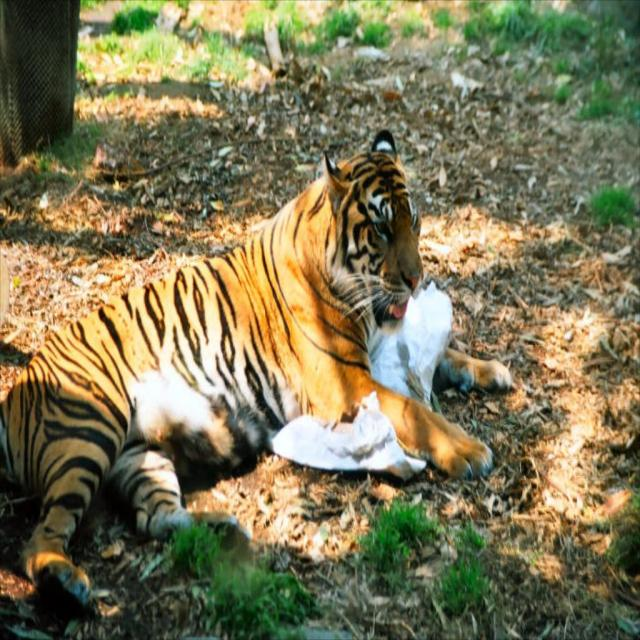Tiger: (0, 130, 514, 618)
